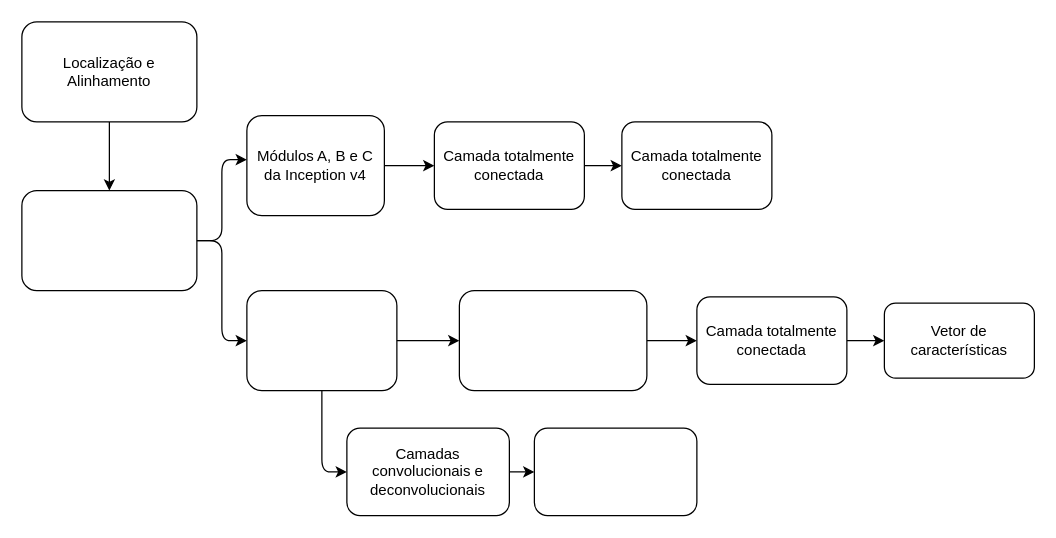
The diagram is 1056 pixels wide and 538 high, and some of its shapes have lost their labels. The centre of each missing label's shape, as x and y in pixels:
Camadas convolucionais e pooling: point 552,340
Mapa de minúcias: point 615,471
Módulo A da Inception v4: point 321,340
Rede base (Inception v4 stem): point 109,240
